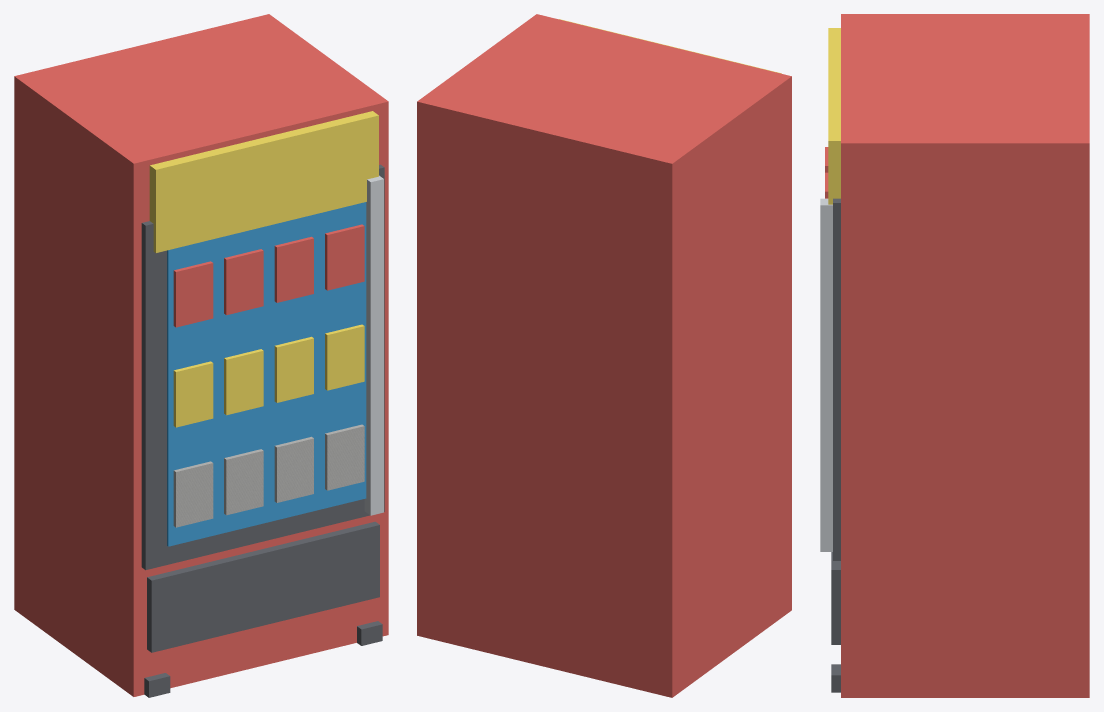
Rendered from go-kart-track-and-pit-lane-vending-machine-c2b7ee3a__34363.glb.
3 renders of one model, left to right at view 1: azimuth 30°, elevation 25°; view 2: azimuth 150°, elevation 25°; view 3: azimuth 270°, elevation 25°, orthographic. The views are drawn at different scales.
Parts seen in each view (by area): view 1: vending-machine-red, door-vend/azure, vending-machine-canary, vending-machine-charcoal, door-vend/charcoal, door-vend/canary, door-vend/concrete, door-vend/red, door-vend/steel; view 2: vending-machine-red; view 3: vending-machine-red, door-vend/steel, door-vend/charcoal, vending-machine-canary, vending-machine-charcoal.
Boxes of the visible parts, left/top/right/bottom form: vending-machine-red: left=14, top=14, right=388, bottom=696; door-vend/azure: left=167, top=202, right=366, bottom=546; vending-machine-canary: left=149, top=111, right=378, bottom=252; vending-machine-charcoal: left=144, top=521, right=382, bottom=697; door-vend/charcoal: left=141, top=164, right=384, bottom=570; door-vend/canary: left=173, top=324, right=364, bottom=427; door-vend/concrete: left=173, top=424, right=364, bottom=527; door-vend/red: left=173, top=224, right=364, bottom=327; door-vend/steel: left=364, top=175, right=383, bottom=515; vending-machine-red: left=417, top=14, right=791, bottom=697; vending-machine-red: left=841, top=14, right=1089, bottom=697; door-vend/steel: left=820, top=198, right=832, bottom=551; door-vend/charcoal: left=833, top=198, right=840, bottom=560; vending-machine-canary: left=828, top=28, right=840, bottom=204; vending-machine-charcoal: left=831, top=552, right=840, bottom=692.
Bounding box in the file's own units: 0.9601 × 1.92 × 0.845.
Materials: 6 (1 with a texture image).
